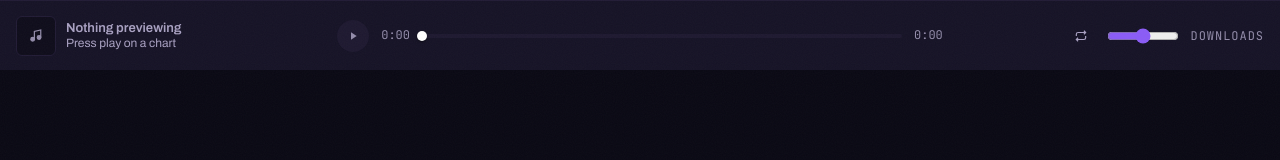
Scenario: PlayerBar: the DOWNLOADS toggle › reflects the panel it opened, and closes it on the next press
The width and height of the screenshot is (1280, 160).
Click the button "DOWNLOADS". click: (1227, 36)
box: [1184,18,1270,54]
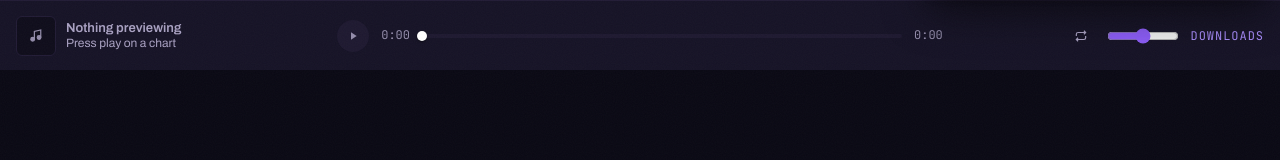
expect the button "DOWNLOADS" is expanded: met
Click the button "DOWNLOADS". click: (1227, 36)
box: [1184,18,1270,54]
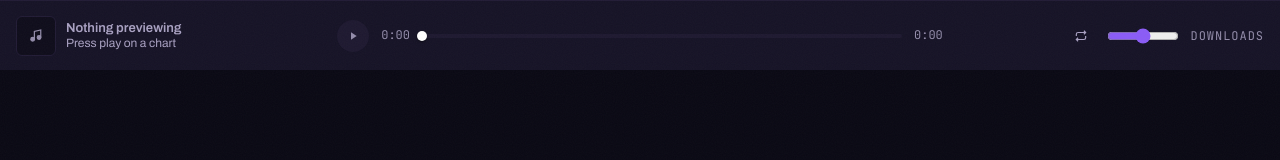
expect the button "DOWNLOADS" is collapsed: met, box [1184,18,1270,54]
